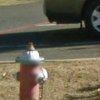Hydrant: (10, 34, 53, 100)
